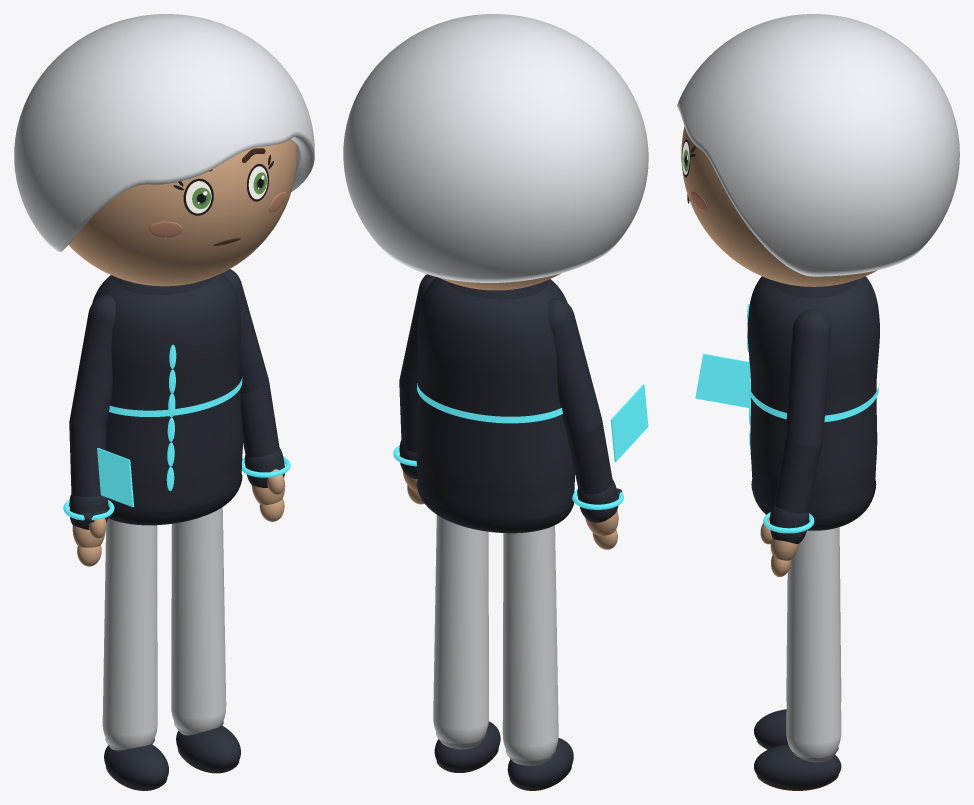
File: mens_2200_a.glb
3 renders of one model, left to right at view 1: azimuth 30°, elevation 25°; view 2: azimuth 150°, elevation 25°; view 3: azimuth 270°, elevation 25°, orthographic.
Parts seen in each view (by area): view 1: mens_2200_a_haar, mens_2200_a_romp, mens_2200_a_hoofd, mens_2200_a_been_R, mens_2200_a_been_L, mens_2200_a_bovenarm_R, mens_2200_a_onderarm_L, mens_2200_a_schoen_R, mens_2200_a_onderarm_R, mens_2200_a_schoen_L, mens_2200_a_bovenarm_L, mens_2200_a_hologram (+5 smaller); view 2: mens_2200_a_haar, mens_2200_a_romp, mens_2200_a_been_R, mens_2200_a_been_L, mens_2200_a_bovenarm_R, mens_2200_a_onderarm_R, mens_2200_a_romp_boord, mens_2200_a_schoen_R, mens_2200_a_hologram, mens_2200_a_schoen_L, mens_2200_a_bovenarm_L, mens_2200_a_gloei_band0 (+4 smaller); view 3: mens_2200_a_haar, mens_2200_a_romp, mens_2200_a_been_L, mens_2200_a_hoofd, mens_2200_a_bovenarm_L, mens_2200_a_schoen_L, mens_2200_a_onderarm_L, mens_2200_a_hologram, mens_2200_a_schoen_R, mens_2200_a_manchet_L, mens_2200_a_romp_halsboord, mens_2200_a_romp_boord (+1 smaller).
Boxes of the visible parts, x1=… form: mens_2200_a_haar: x1=14, y1=14, x2=314, y2=251; mens_2200_a_romp: x1=92, y1=273, x2=242, y2=512; mens_2200_a_hoofd: x1=69, y1=139, x2=296, y2=286; mens_2200_a_been_R: x1=102, y1=518, x2=157, y2=749; mens_2200_a_been_L: x1=171, y1=507, x2=226, y2=732; mens_2200_a_bovenarm_R: x1=69, y1=295, x2=115, y2=428; mens_2200_a_onderarm_L: x1=240, y1=381, x2=279, y2=457; mens_2200_a_schoen_R: x1=104, y1=744, x2=168, y2=788; mens_2200_a_onderarm_R: x1=69, y1=422, x2=106, y2=496; mens_2200_a_schoen_L: x1=176, y1=725, x2=240, y2=770; mens_2200_a_bovenarm_L: x1=223, y1=269, x2=268, y2=393; mens_2200_a_hologram: x1=97, y1=448, x2=134, y2=507; mens_2200_a_haar: x1=343, y1=14, x2=648, y2=282; mens_2200_a_romp: x1=416, y1=277, x2=575, y2=520; mens_2200_a_been_R: x1=502, y1=525, x2=558, y2=760; mens_2200_a_been_L: x1=433, y1=515, x2=488, y2=744; mens_2200_a_bovenarm_R: x1=548, y1=298, x2=601, y2=434; mens_2200_a_onderarm_R: x1=566, y1=420, x2=612, y2=494; mens_2200_a_romp_boord: x1=416, y1=481, x2=573, y2=533; mens_2200_a_schoen_R: x1=507, y1=738, x2=573, y2=788; mens_2200_a_hologram: x1=610, y1=384, x2=648, y2=461; mens_2200_a_schoen_L: x1=434, y1=721, x2=500, y2=770; mens_2200_a_bovenarm_L: x1=400, y1=274, x2=435, y2=394; mens_2200_a_gloei_band0: x1=417, y1=383, x2=562, y2=423; mens_2200_a_haar: x1=677, y1=14, x2=959, y2=276; mens_2200_a_romp: x1=747, y1=276, x2=879, y2=519; mens_2200_a_been_L: x1=786, y1=527, x2=841, y2=757; mens_2200_a_hoofd: x1=681, y1=127, x2=877, y2=286; mens_2200_a_bovenarm_L: x1=785, y1=309, x2=831, y2=448; mens_2200_a_schoen_L: x1=754, y1=744, x2=841, y2=786; mens_2200_a_onderarm_L: x1=774, y1=439, x2=821, y2=513; mens_2200_a_hologram: x1=695, y1=353, x2=750, y2=407; mens_2200_a_schoen_R: x1=754, y1=709, x2=787, y2=748; mens_2200_a_manchet_L: x1=769, y1=503, x2=809, y2=543; mens_2200_a_romp_halsboord: x1=769, y1=279, x2=858, y2=298; mens_2200_a_romp_boord: x1=751, y1=479, x2=876, y2=530.
Bounding box in the file's own units: 0.6589 × 1.78 × 0.6147.
